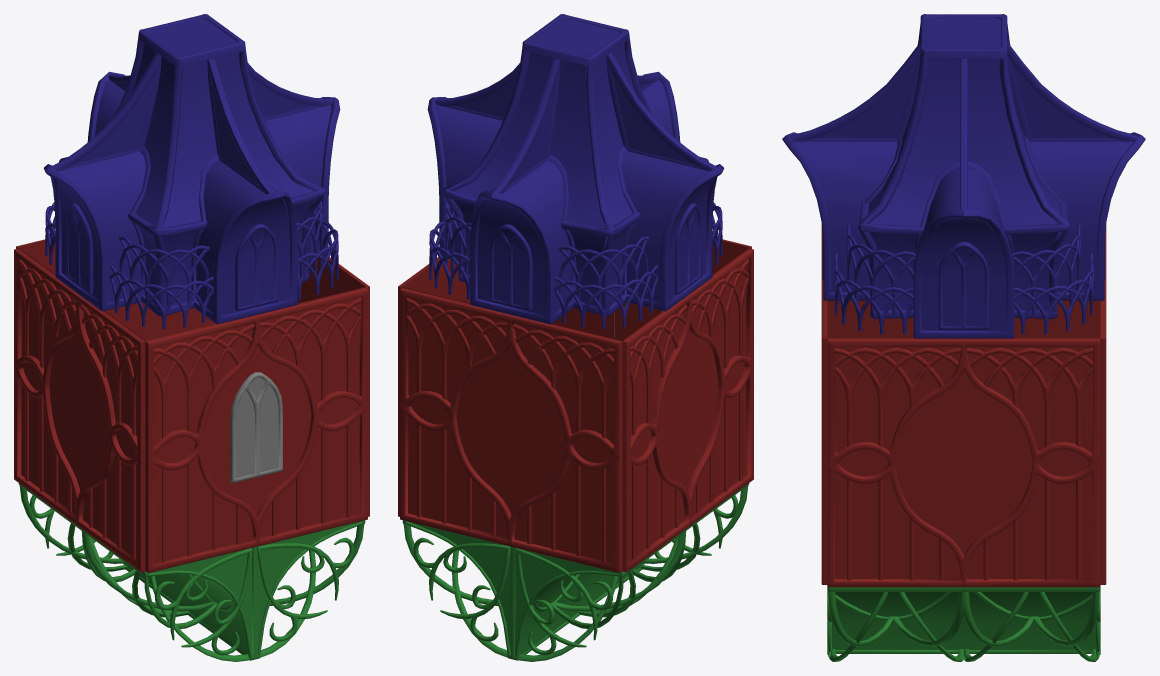
File: SM_elfe_bloc_low.fbx
3 views of the same model, side by side, from view 1: azimuth 30°, elevation 25°; view 2: azimuth 150°, elevation 25°; view 3: azimuth 270°, elevation 25° (orthographic). The views are drawn at different scales.
Parts seen in each view (by area): view 1: SM_elfe_roof_low, SM_elfe_wall_low, SM_elfe_wall_low003, SM_elfe_corbel_low, SM_elfe_window_low, SM_elfe_wall_low002, SM_elfe_wall_low001; view 2: SM_elfe_roof_low, SM_elfe_wall_low002, SM_elfe_wall_low003, SM_elfe_corbel_low, SM_elfe_wall_low, SM_elfe_wall_low001; view 3: SM_elfe_roof_low, SM_elfe_wall_low001, SM_elfe_corbel_low, SM_elfe_wall_low003, SM_elfe_wall_low, SM_elfe_wall_low002.
Part boxes in pixels (<box>): SM_elfe_roof_low: <box>43,14,340,328</box>; SM_elfe_wall_low: <box>145,287,367,572</box>; SM_elfe_wall_low003: <box>14,248,145,572</box>; SM_elfe_corbel_low: <box>18,483,365,661</box>; SM_elfe_window_low: <box>230,372,282,483</box>; SM_elfe_wall_low002: <box>16,239,214,340</box>; SM_elfe_wall_low001: <box>297,257,369,516</box>; SM_elfe_roof_low: <box>427,14,724,328</box>; SM_elfe_wall_low002: <box>400,287,622,572</box>; SM_elfe_wall_low003: <box>622,248,753,572</box>; SM_elfe_corbel_low: <box>402,483,749,661</box>; SM_elfe_wall_low: <box>553,239,751,340</box>; SM_elfe_wall_low001: <box>398,257,470,516</box>; SM_elfe_roof_low: <box>782,14,1145,338</box>; SM_elfe_wall_low001: <box>827,337,1100,587</box>; SM_elfe_corbel_low: <box>827,585,1100,661</box>; SM_elfe_wall_low003: <box>827,300,1100,337</box>; SM_elfe_wall_low: <box>821,225,827,584</box>; SM_elfe_wall_low002: <box>1100,225,1106,584</box>.
Bounding box in the file's own units: 52.34 × 98.41 × 52.34.
